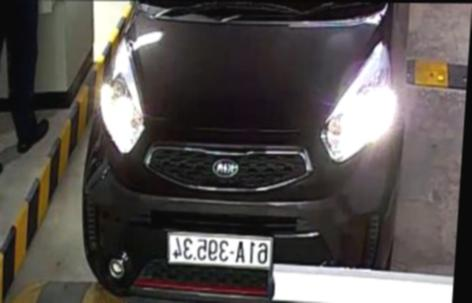License_Plate: (153, 226, 279, 269)
